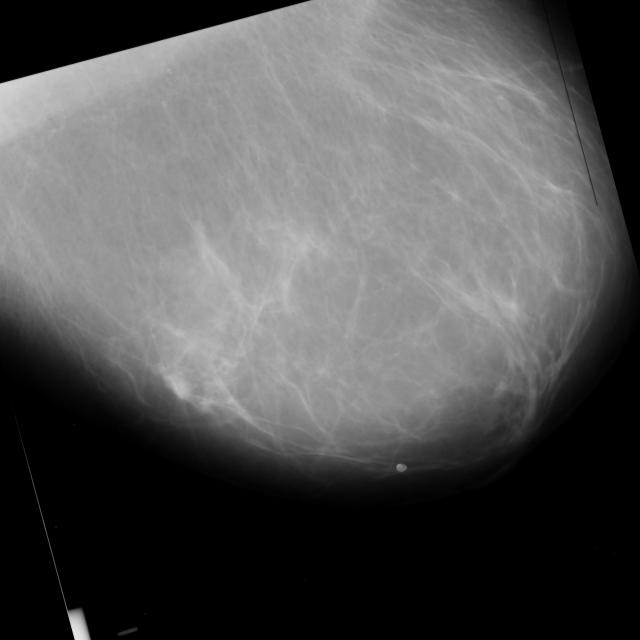CIRC: (22, 398, 262, 640)
